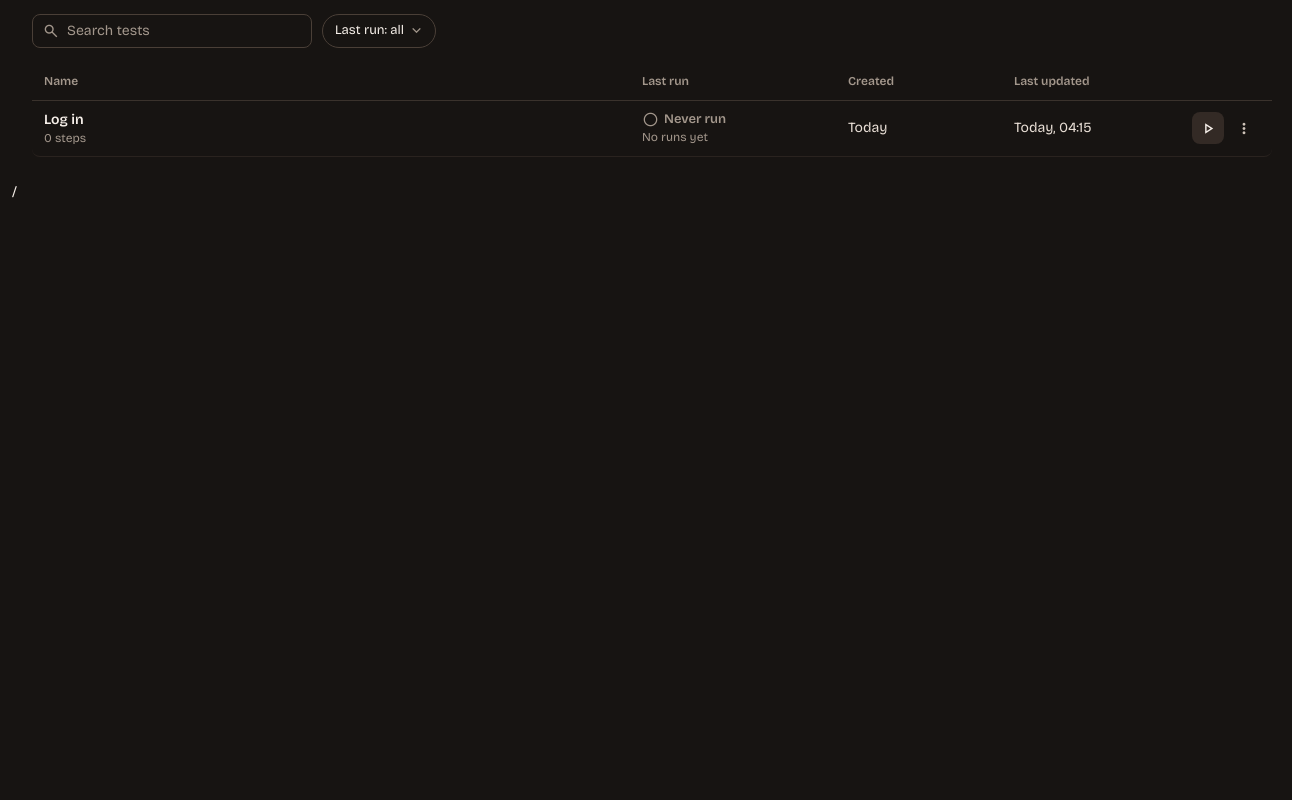
it: Deleting a test › goes at once, with no dialog, and Undo puts it back
Click the button named "More for Log in": coordinates (1244, 128) [1228,112,1260,144]
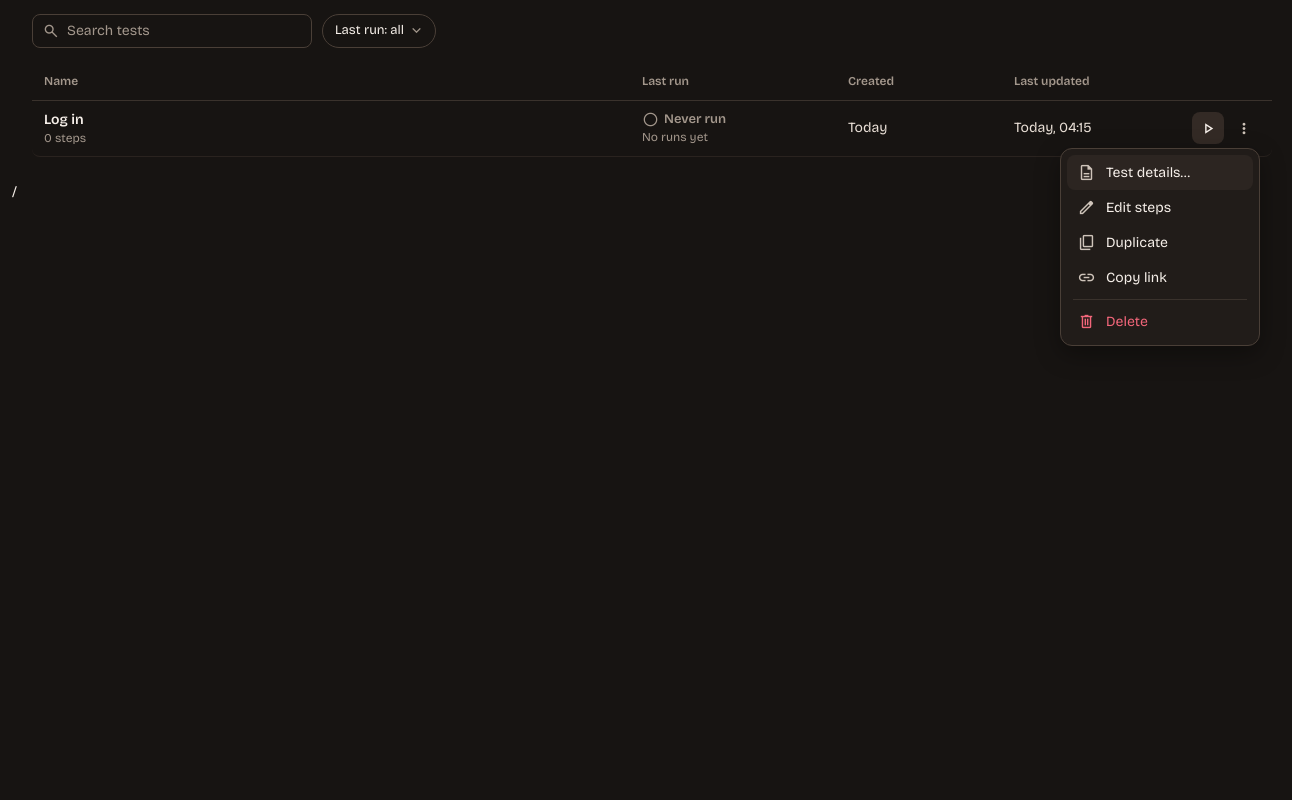
Click the menu item "Delete": coordinates (1160, 322) [1067,304,1253,339]
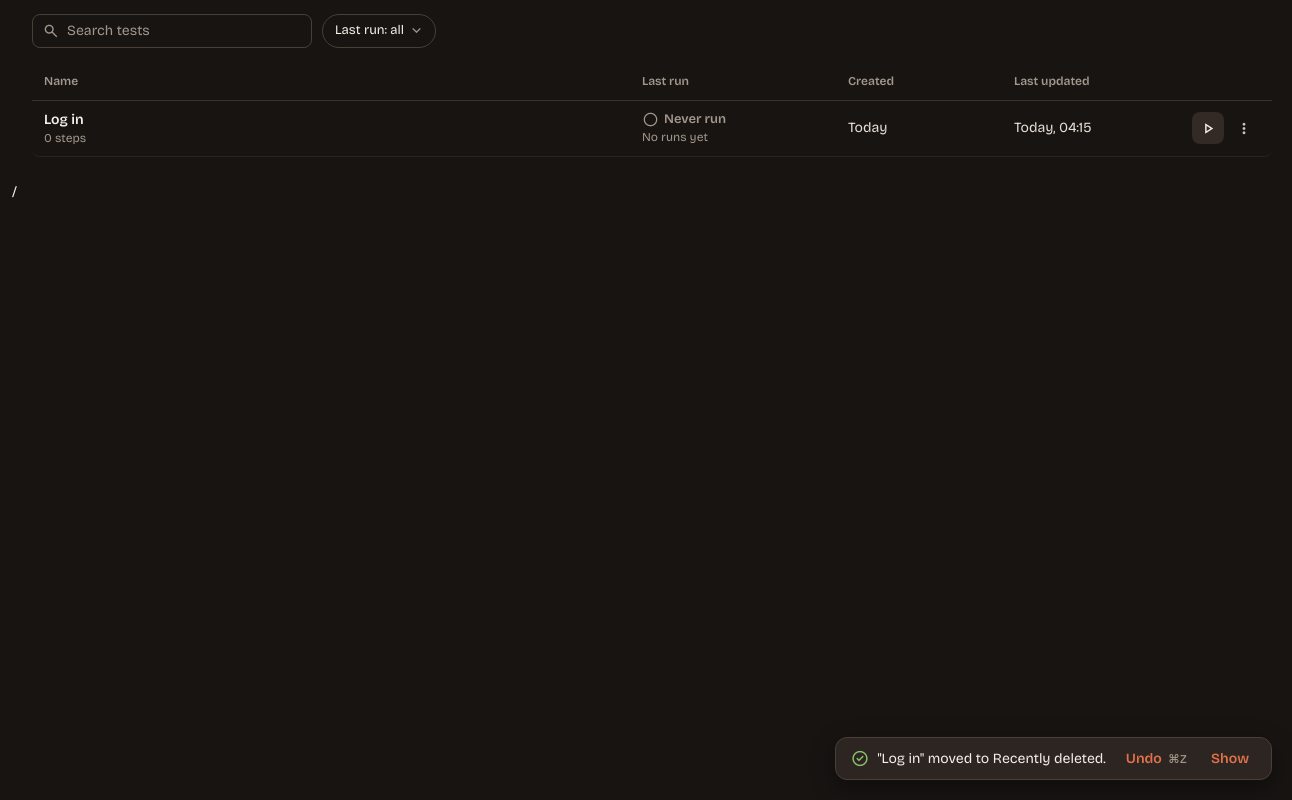
Now the text "\"Log in\" moved to Recently deleted." is shown, box [877,748,1106,769]
Click the button "Undo⌘Z": coordinates (1156, 758) [1118,744,1195,773]
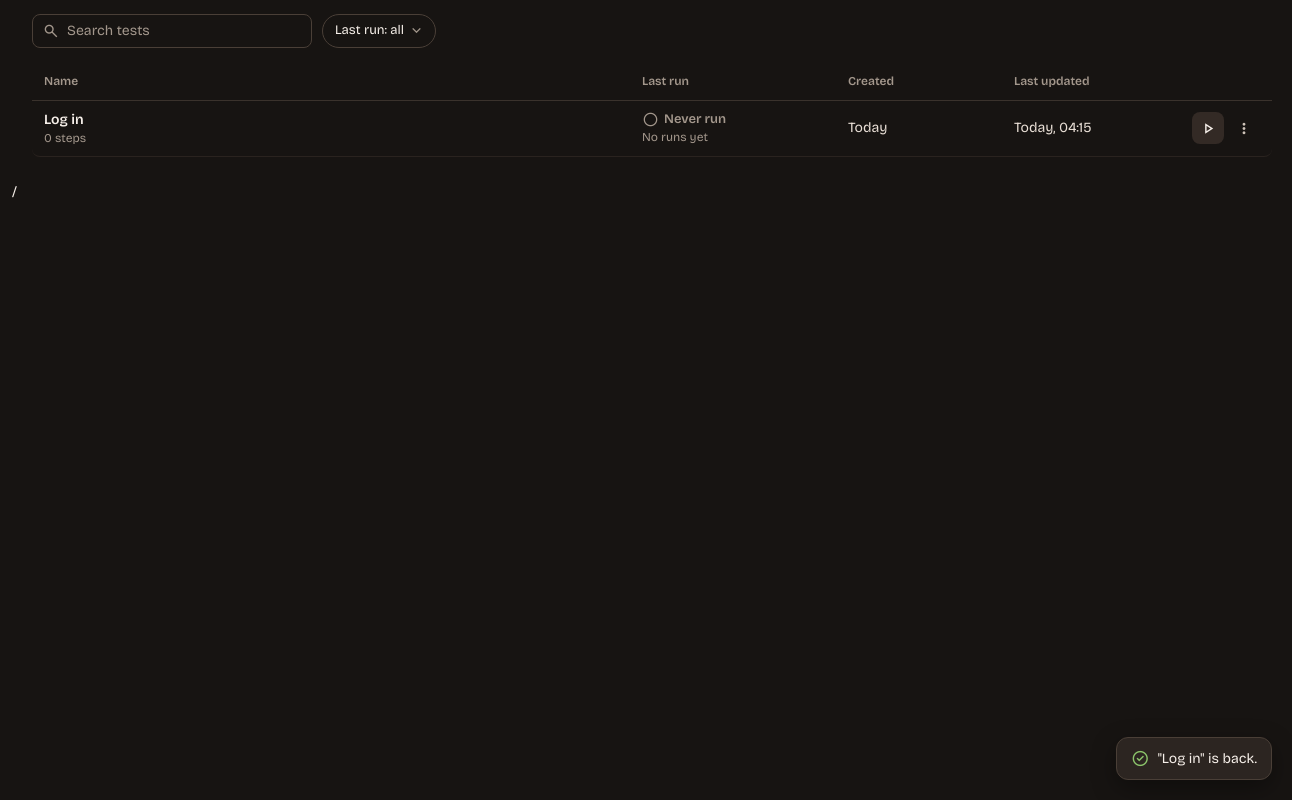
Now the text "\"Log in\" is back." is shown, box [1158,748,1257,769]
